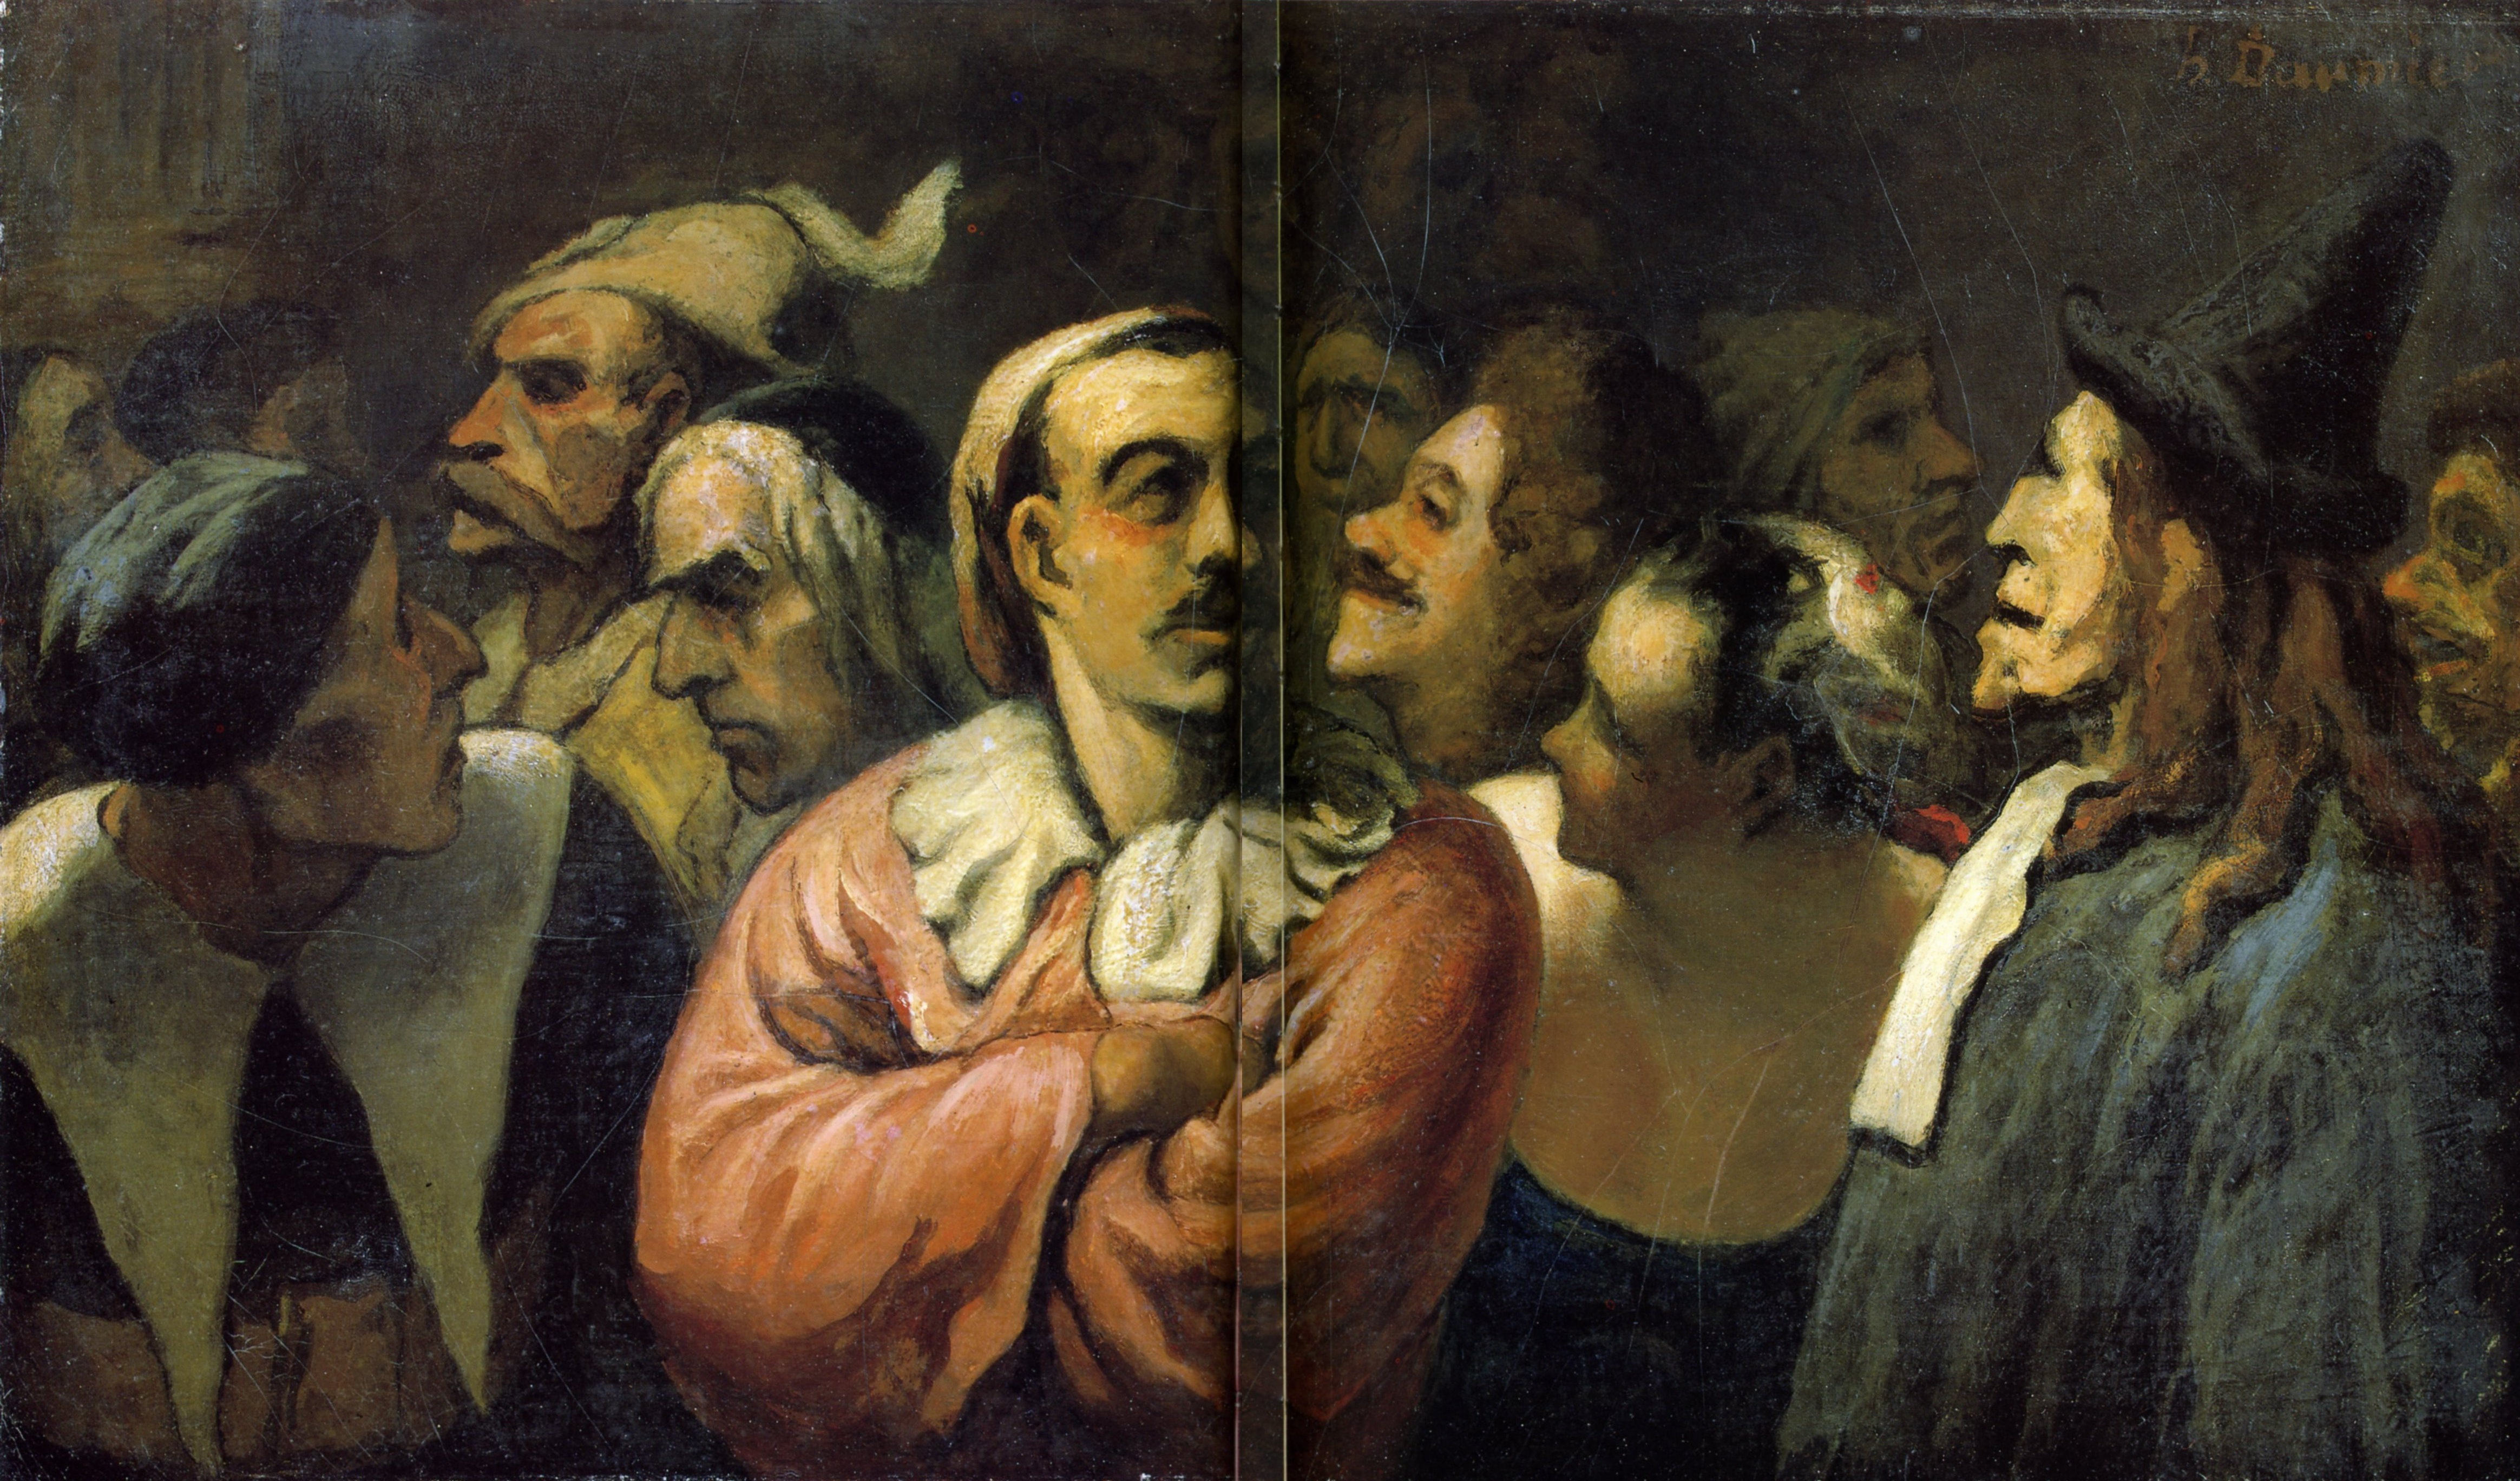bad: (1061, 393, 1360, 693)
